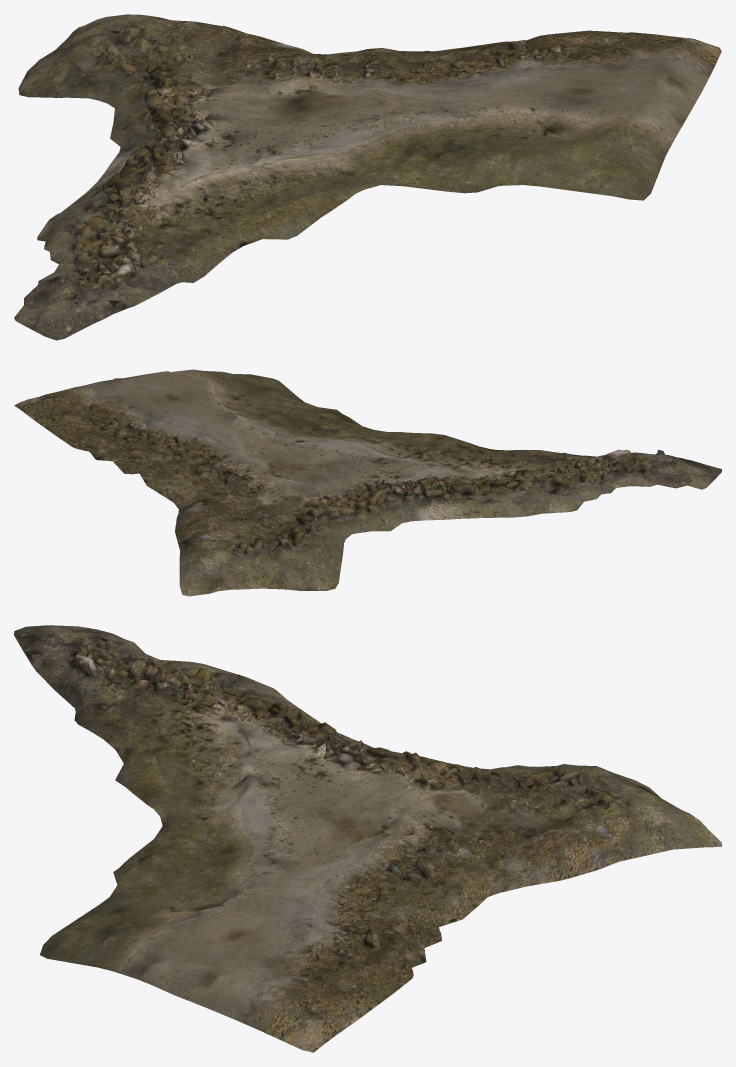
File: coast_rocks_01.glb
3 views of the same model, one above another, from view 1: azimuth 30°, elevation 25°; view 2: azimuth 150°, elevation 25°; view 3: azimuth 270°, elevation 25° (orthographic). The views are drawn at different scales.
Visible parts, largest first — view 1: coast_rocks_01; view 2: coast_rocks_01; view 3: coast_rocks_01.
Part boxes in pixels (box(x1,y1,x2,y2)): coast_rocks_01: box(14, 14, 721, 340); coast_rocks_01: box(14, 369, 721, 596); coast_rocks_01: box(14, 625, 721, 1052).
Size of the model in its own units: 59.51 by 3.25 by 42.51.
1 material, 1 textured.
